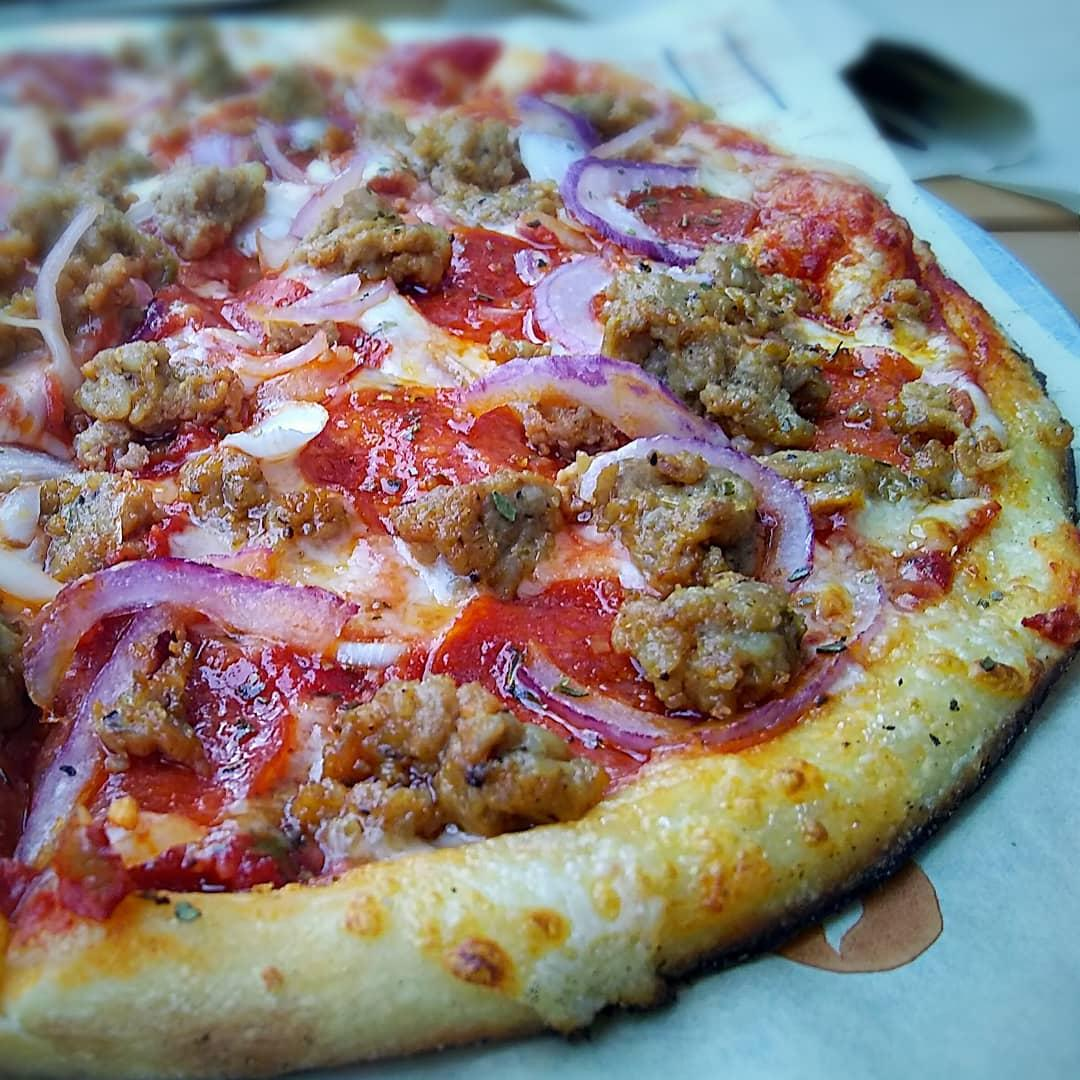Onion: (400, 522, 804, 708), (17, 550, 364, 721), (9, 598, 179, 877), (576, 420, 823, 600), (442, 343, 740, 452), (557, 150, 722, 264), (35, 188, 110, 413), (501, 88, 610, 197), (531, 246, 625, 371)
Pizza: (0, 22, 1080, 1080)
